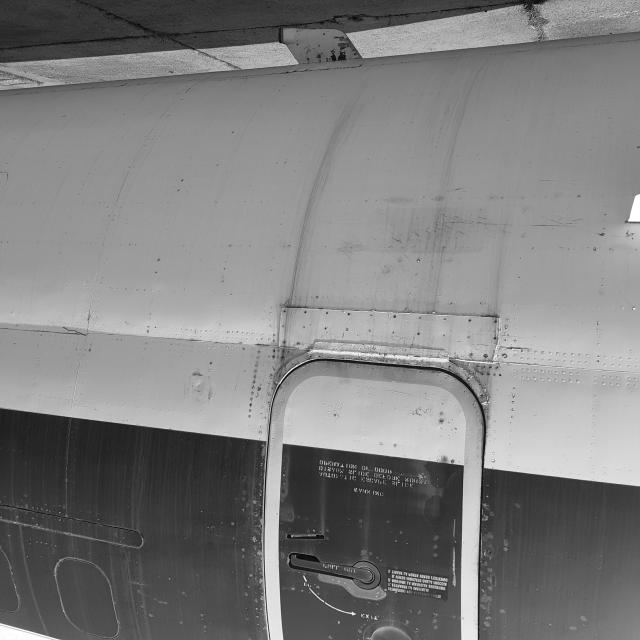Rupture: (58, 320, 92, 338)
